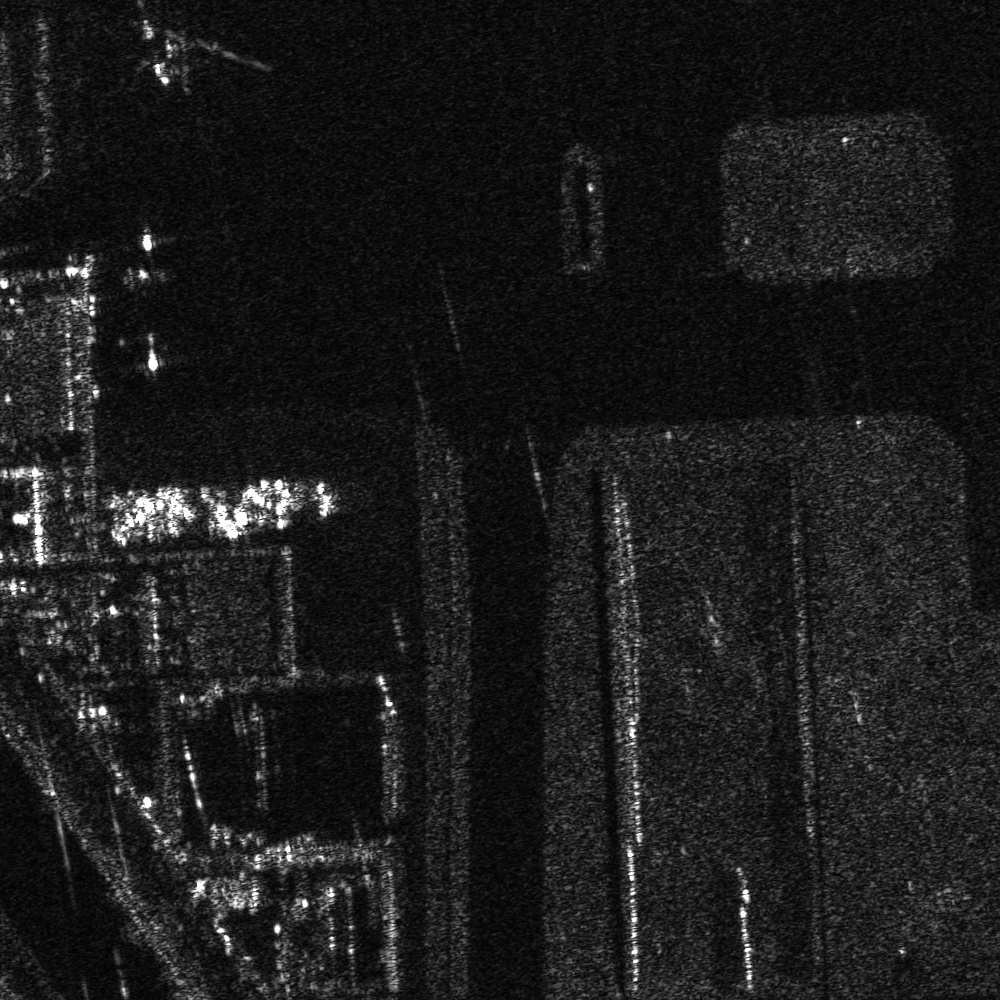A220: (146, 21, 241, 94)
